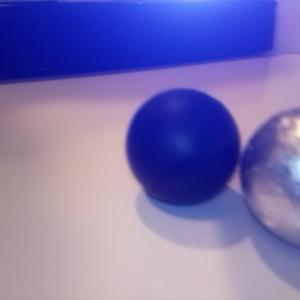alive_ball: (240, 108, 300, 248)
dead_ball: (125, 87, 241, 206)
